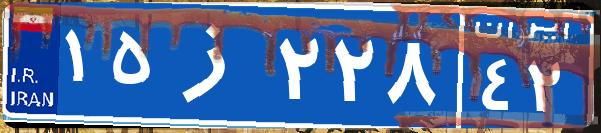1: (57, 26, 110, 107)
2: (273, 28, 330, 110), (330, 28, 385, 110), (525, 38, 570, 115)
4: (475, 38, 525, 113)
5: (110, 28, 158, 105)
8: (385, 28, 445, 110)
ز: (158, 15, 273, 115)
